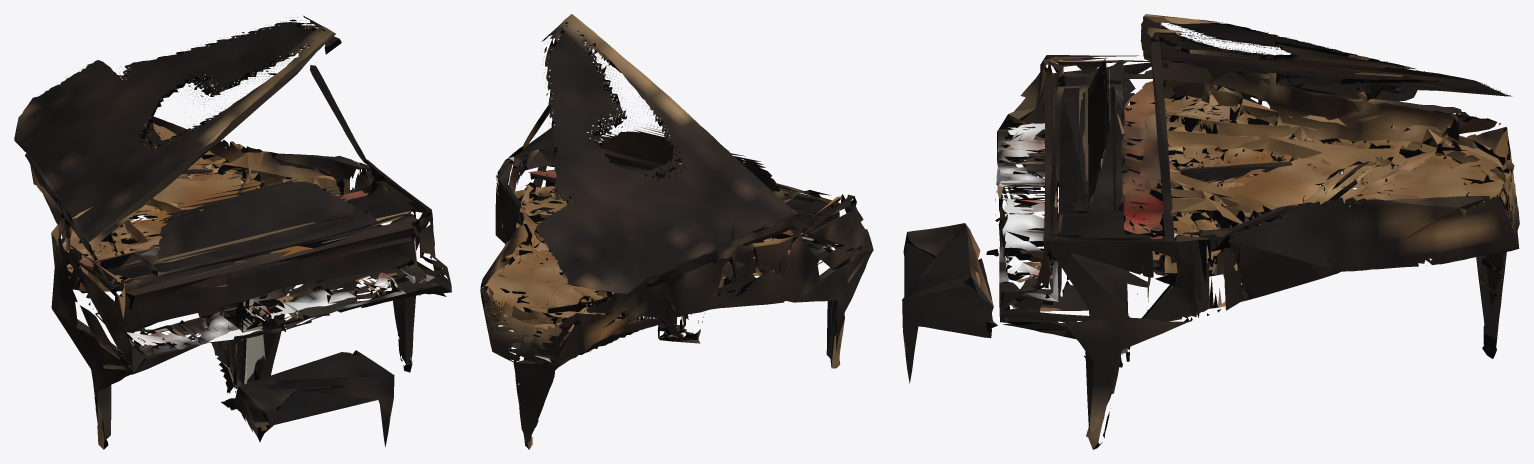
Rendered from grand-piano-lod1.fbx.
3 renders of one model, left to right at view 1: azimuth 30°, elevation 25°; view 2: azimuth 150°, elevation 25°; view 3: azimuth 270°, elevation 25°, orthographic. The views are drawn at different scales.
Parts seen in each view (by area): view 1: CE_grand-piano_LOD1; view 2: CE_grand-piano_LOD1; view 3: CE_grand-piano_LOD1.
Boxes of the visible parts, bbox=[...] form: CE_grand-piano_LOD1: bbox=[14, 15, 451, 449]; CE_grand-piano_LOD1: bbox=[480, 14, 873, 449]; CE_grand-piano_LOD1: bbox=[902, 14, 1519, 449].
Size of the model in its own units: 174 by 173 by 238.
Materials: 1 (1 with a texture image).
